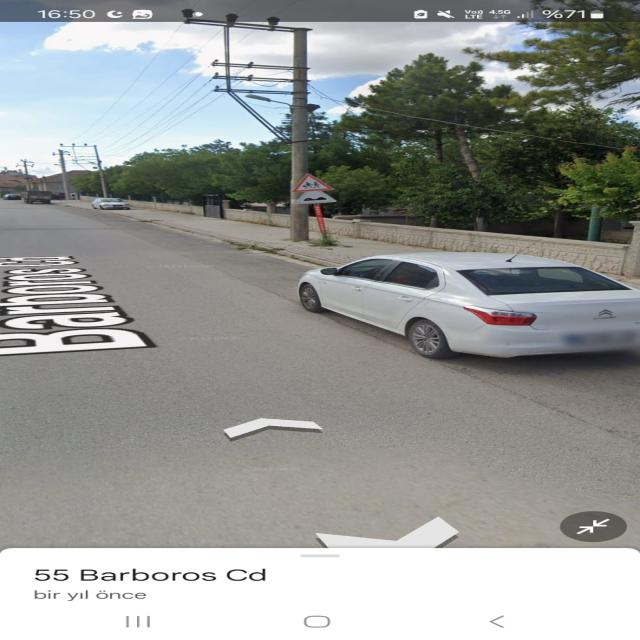okul_gecidi: (291, 173, 336, 193)
